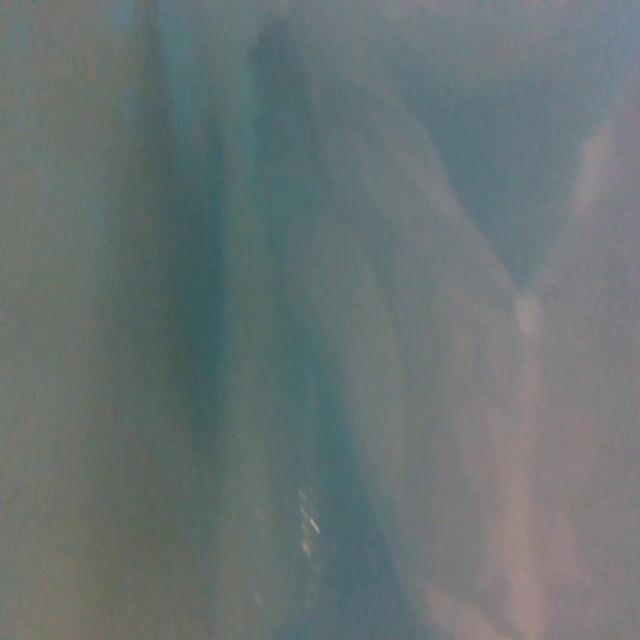plastic bags: (244, 13, 555, 640)
